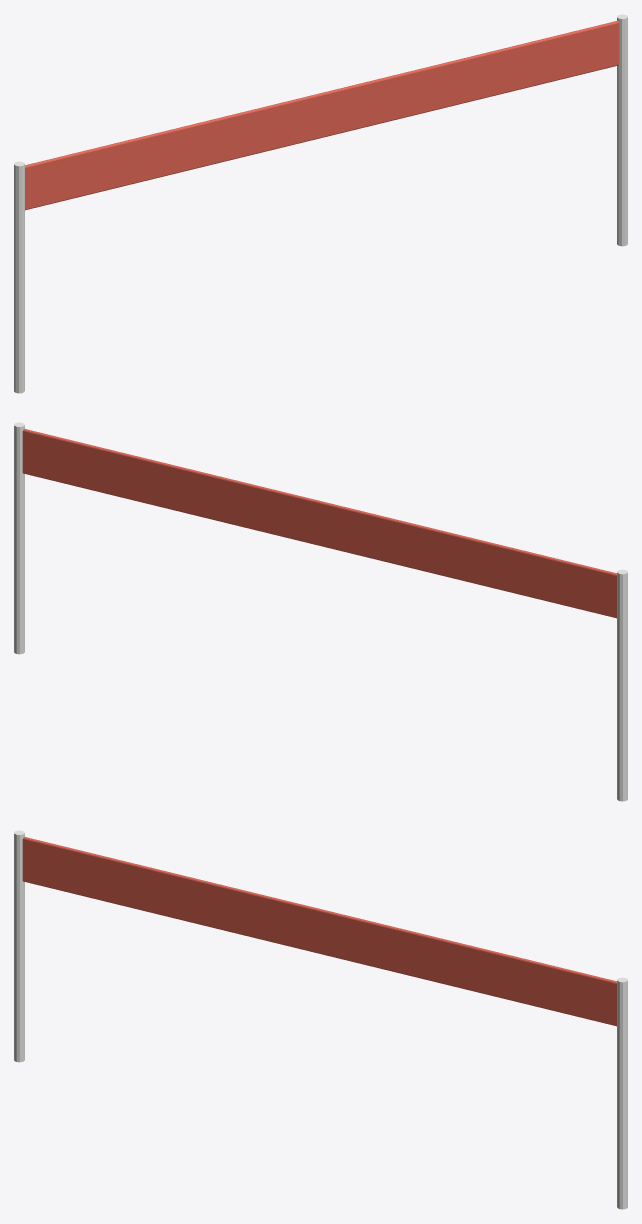
File: FinishModel.glb
3 views of the same model, one above another, from view 1: azimuth 30°, elevation 25°; view 2: azimuth 150°, elevation 25°; view 3: azimuth 330°, elevation 25° (orthographic).
Parts seen in each view (by area): view 1: FinishModel; view 2: FinishModel; view 3: FinishModel.
Boxes of the visible parts, box(x1,y1,x2,y2) form: FinishModel: box(14, 14, 627, 393); FinishModel: box(14, 422, 627, 801); FinishModel: box(14, 830, 627, 1209).
Bounding box in the file's own units: 10.15 × 3.6 × 0.16.
